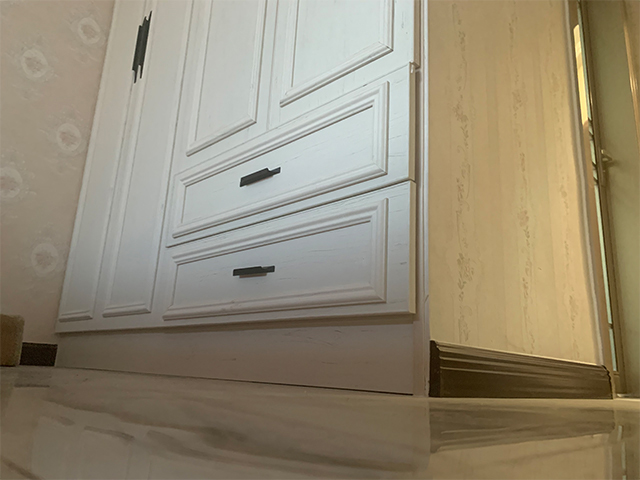cabinet: (51, 1, 615, 400)
